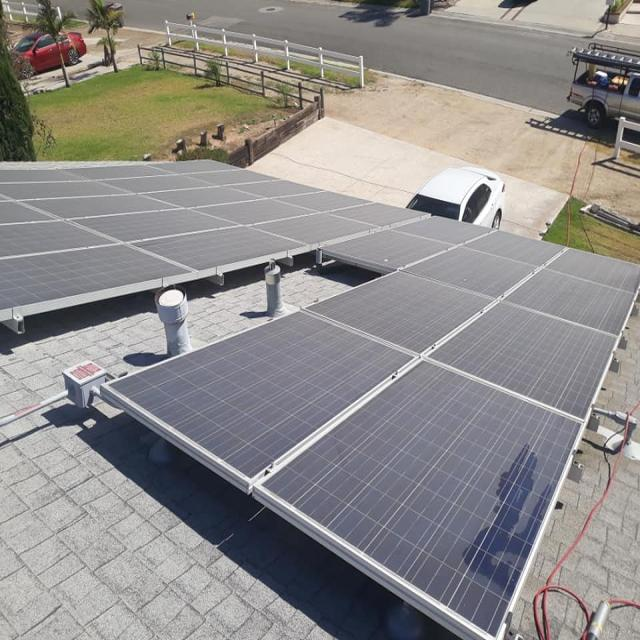dust-solar-panel: (0, 160, 640, 640)
